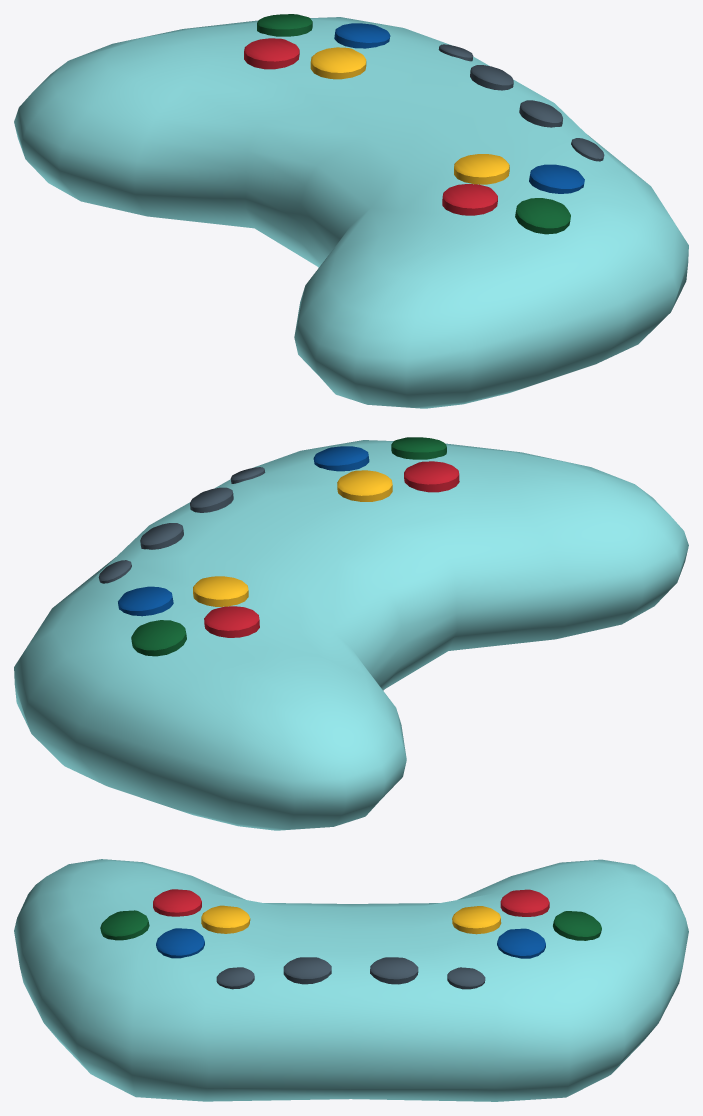
The model's file is Controller.glb.
3 views of the same model, one above another, from view 1: azimuth 30°, elevation 25°; view 2: azimuth 150°, elevation 25°; view 3: azimuth 270°, elevation 25° (orthographic). The views are drawn at different scales.
Visible parts, largest first — view 1: Joystick; view 2: Joystick; view 3: Joystick.
Part boxes in pixels (<box>): Joystick: <box>14,14,688,408</box>; Joystick: <box>14,437,688,830</box>; Joystick: <box>14,859,688,1101</box>.
Bounding box in the file's own units: 0.1826 × 0.0671 × 0.2966.
2 materials, 1 textured.
